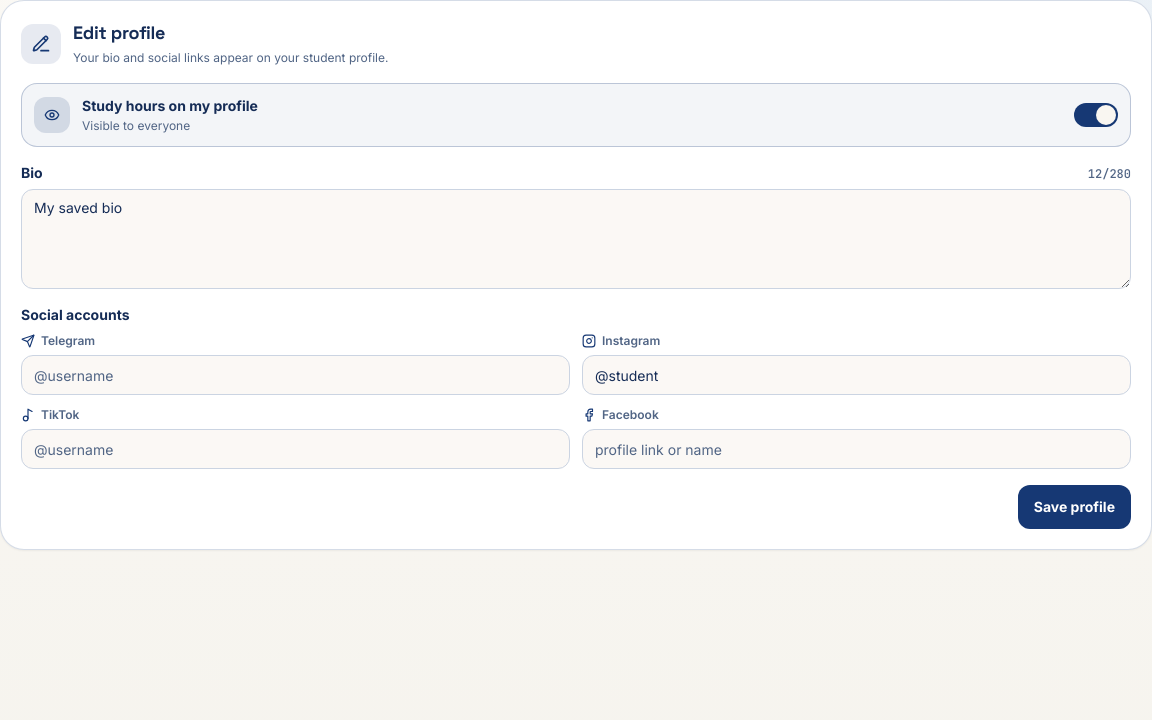
Test: profile bio editing › never transfers a previous student's draft into another account
The image size is (1152, 720).
Replace the text in the text box labelled "Bio" with "Private draft" at (576, 239), box [21, 189, 1131, 289]
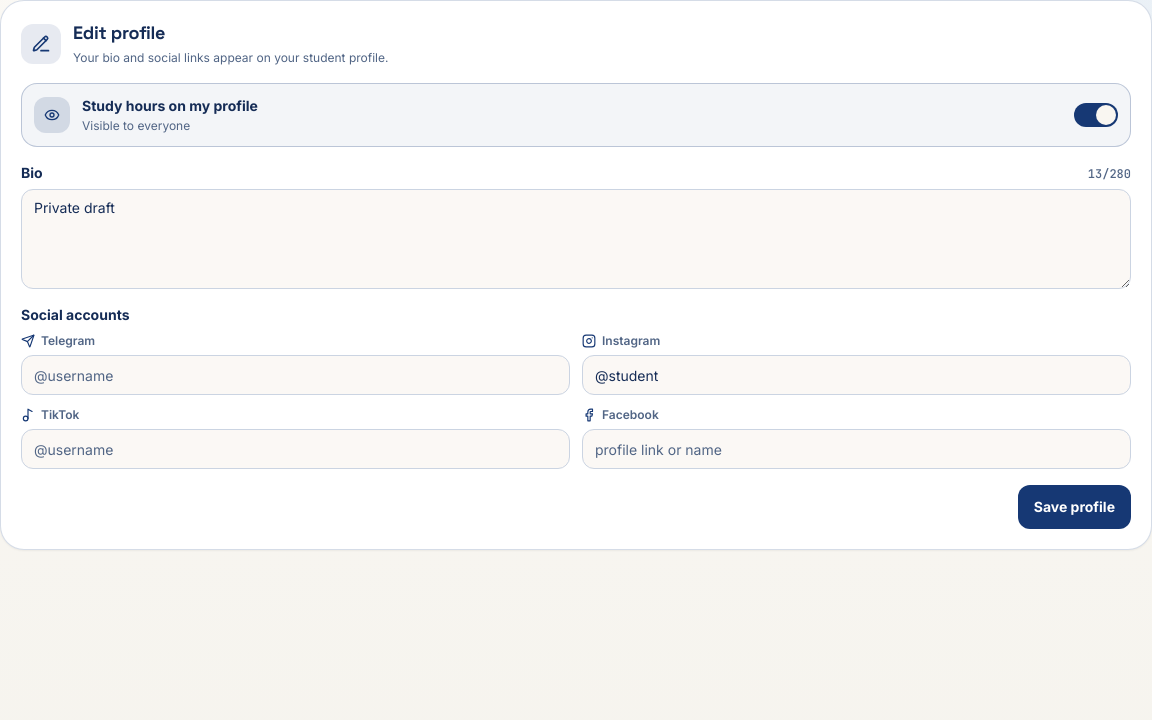
Click the button "Save profile".
click(1074, 507)  # box [1018, 485, 1131, 529]
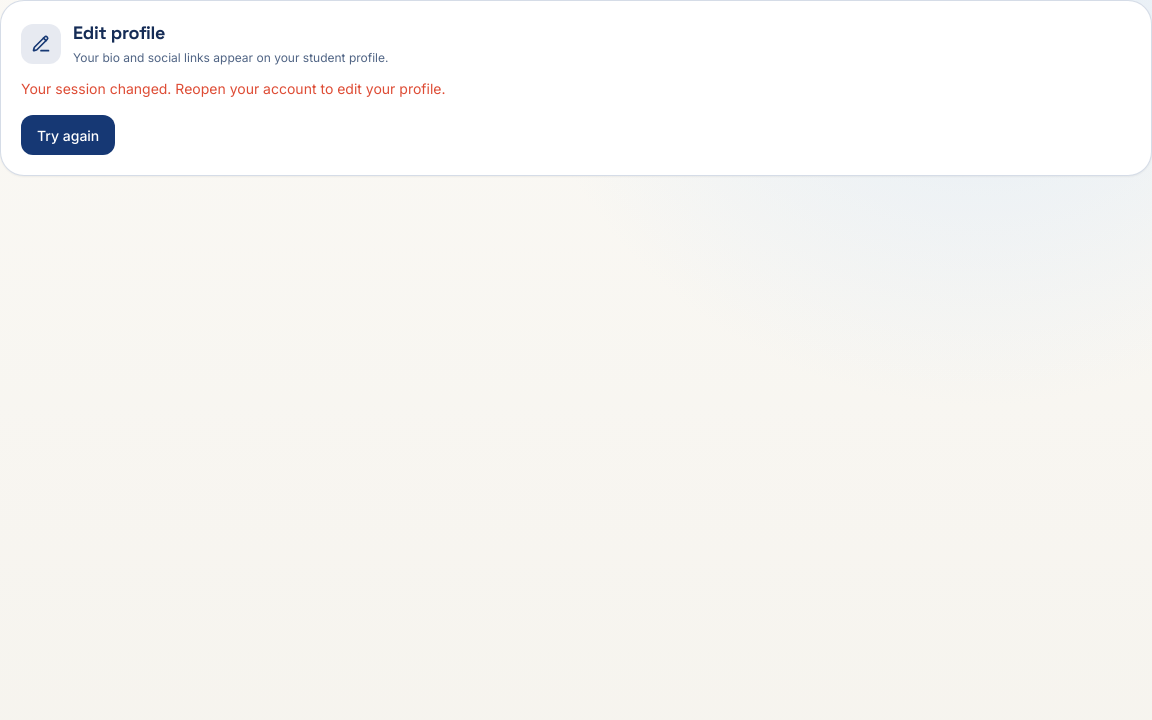
Check: the message shows "session changed", box [21, 80, 446, 97]
